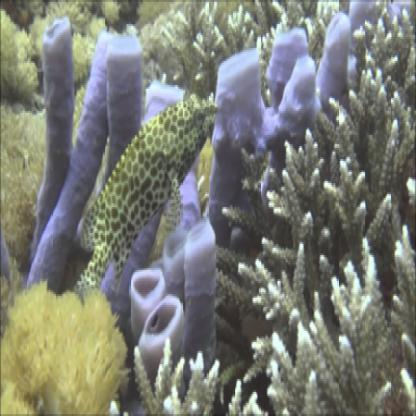Serranidae -Groupers-: (75, 88, 217, 306)
